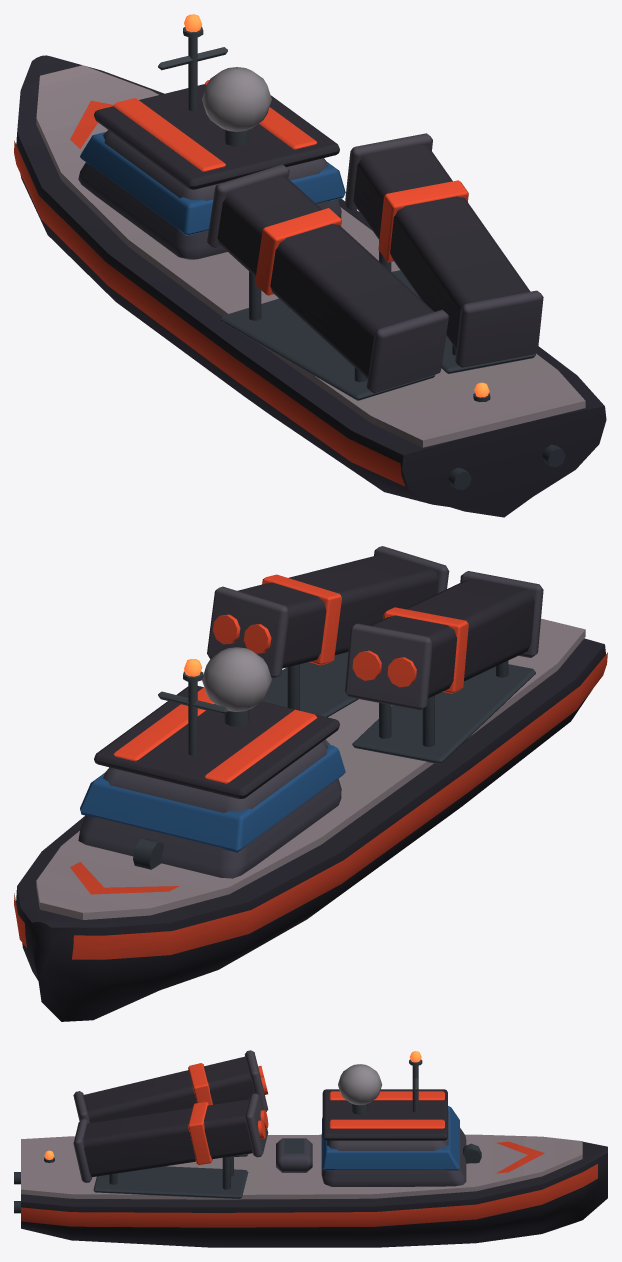
Rendered from missile-boat.glb.
The picture shows the model from 3 angles, top to bottom: view 1: azimuth 30°, elevation 25°; view 2: azimuth 150°, elevation 25°; view 3: azimuth 270°, elevation 25°; orthographic projection. The views are drawn at different scales.
Visible parts, largest first — view 1: missile-boat Ashen charcoal, missile-boat Bunker concrete, missile-boat Ashen slate, missile-boat Ember paint, missile-boat Gunmetal, missile-boat Tinted glass, missile-boat Ash grey; view 2: missile-boat Ashen charcoal, missile-boat Ember paint, missile-boat Ashen slate, missile-boat Bunker concrete, missile-boat Gunmetal, missile-boat Tinted glass, missile-boat Ash grey; view 3: missile-boat Ashen charcoal, missile-boat Bunker concrete, missile-boat Ember paint, missile-boat Ashen slate, missile-boat Gunmetal, missile-boat Tinted glass, missile-boat Ash grey.
Part boxes in pixels (left/top/right/bottom): missile-boat Ashen charcoal: left=16, top=55, right=606, bottom=517; missile-boat Bunker concrete: left=36, top=65, right=585, bottom=447; missile-boat Ashen slate: left=78, top=130, right=543, bottom=393; missile-boat Ember paint: left=14, top=80, right=468, bottom=486; missile-boat Gunmetal: left=158, top=27, right=565, bottom=490; missile-boat Tinted glass: left=80, top=132, right=345, bottom=235; missile-boat Ash grey: left=202, top=67, right=271, bottom=131; missile-boat Ashen charcoal: left=16, top=554, right=605, bottom=1021; missile-boat Ember paint: left=14, top=574, right=607, bottom=959; missile-boat Ashen slate: left=78, top=546, right=543, bottom=878; missile-boat Bunker concrete: left=36, top=618, right=585, bottom=919; missile-boat Gunmetal: left=133, top=652, right=535, bottom=869; missile-boat Tinted glass: left=80, top=744, right=345, bottom=852; missile-boat Ash grey: left=202, top=647, right=271, bottom=711; missile-boat Ashen charcoal: left=21, top=1056, right=607, bottom=1247; missile-boat Bunker concrete: left=21, top=1134, right=582, bottom=1199; missile-boat Ember paint: left=21, top=1063, right=597, bottom=1227; missile-boat Ashen slate: left=73, top=1050, right=466, bottom=1186; missile-boat Gunmetal: left=14, top=1059, right=481, bottom=1213; missile-boat Tinted glass: left=322, top=1106, right=459, bottom=1170; missile-boat Ash grey: left=338, top=1064, right=382, bottom=1105.
Size of the model in its own units: 1.73 by 2.14 by 5.87.
8 materials, 6 textured.
